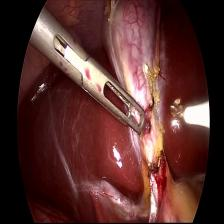Grasper: (32, 6, 146, 134)
Hook: (168, 92, 211, 136)
